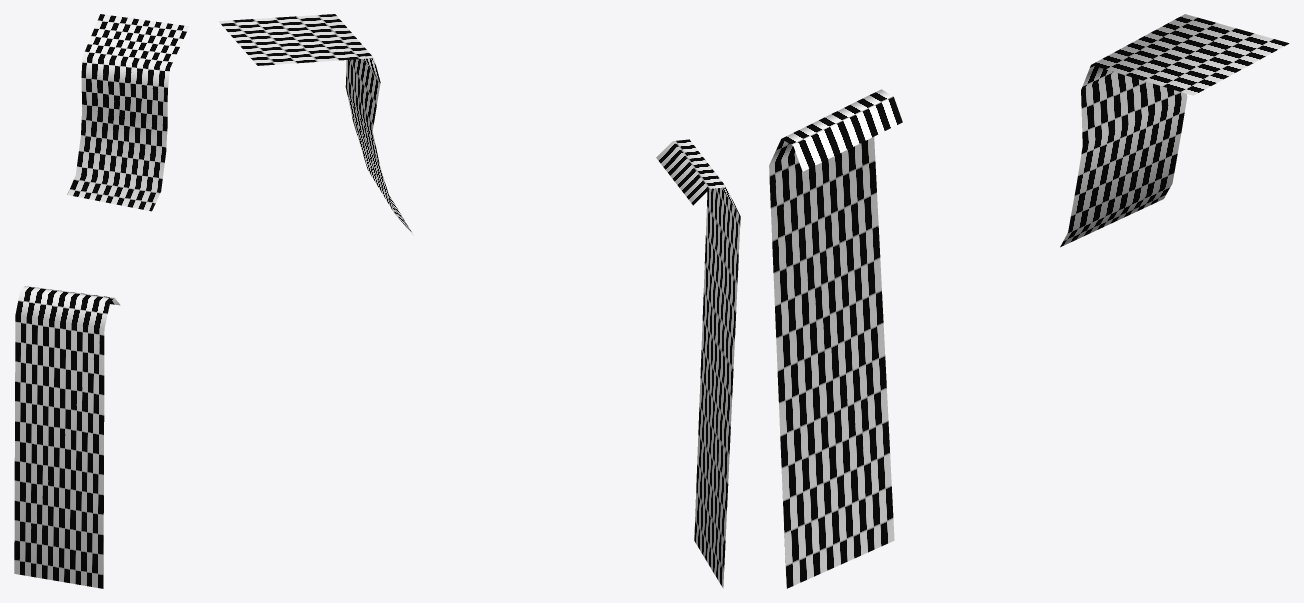
Rendered from waterfall2.fbx.
3 views of the same model, side by side, from view 1: azimuth 30°, elevation 25°; view 2: azimuth 150°, elevation 25°; view 3: azimuth 270°, elevation 25° (orthographic). The views are drawn at different scales.
Visible parts, largest first — view 1: Waterfall2; view 2: Waterfall2; view 3: Waterfall2.
Boxes of the visible parts, x1,y1,x2,y2 form: Waterfall2: (14,14,189,588); Waterfall2: (218,14,740,588); Waterfall2: (769,14,1289,588).
Size of the model in its own units: 2437 by 2522 by 3557.
